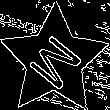M_SE: (22, 27, 87, 94)
